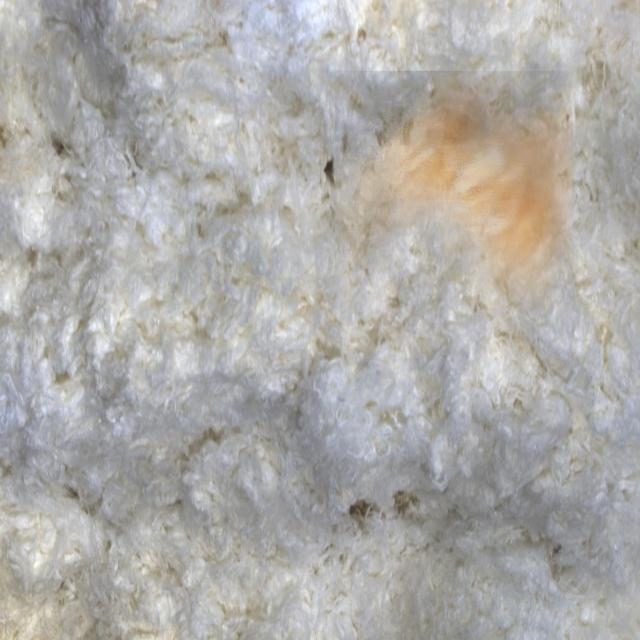dust: (335, 71, 573, 312)
